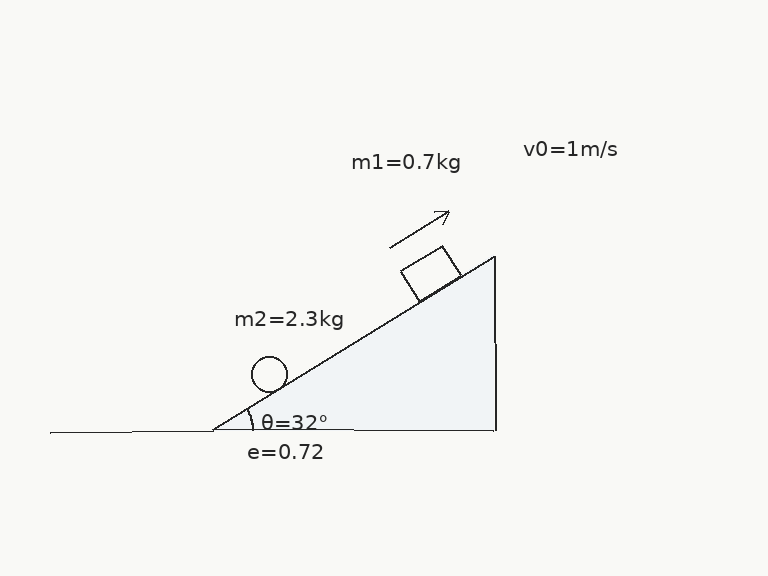ball: (249, 354, 289, 394)
block: (398, 243, 462, 303)
ramp: (211, 253, 496, 432)
